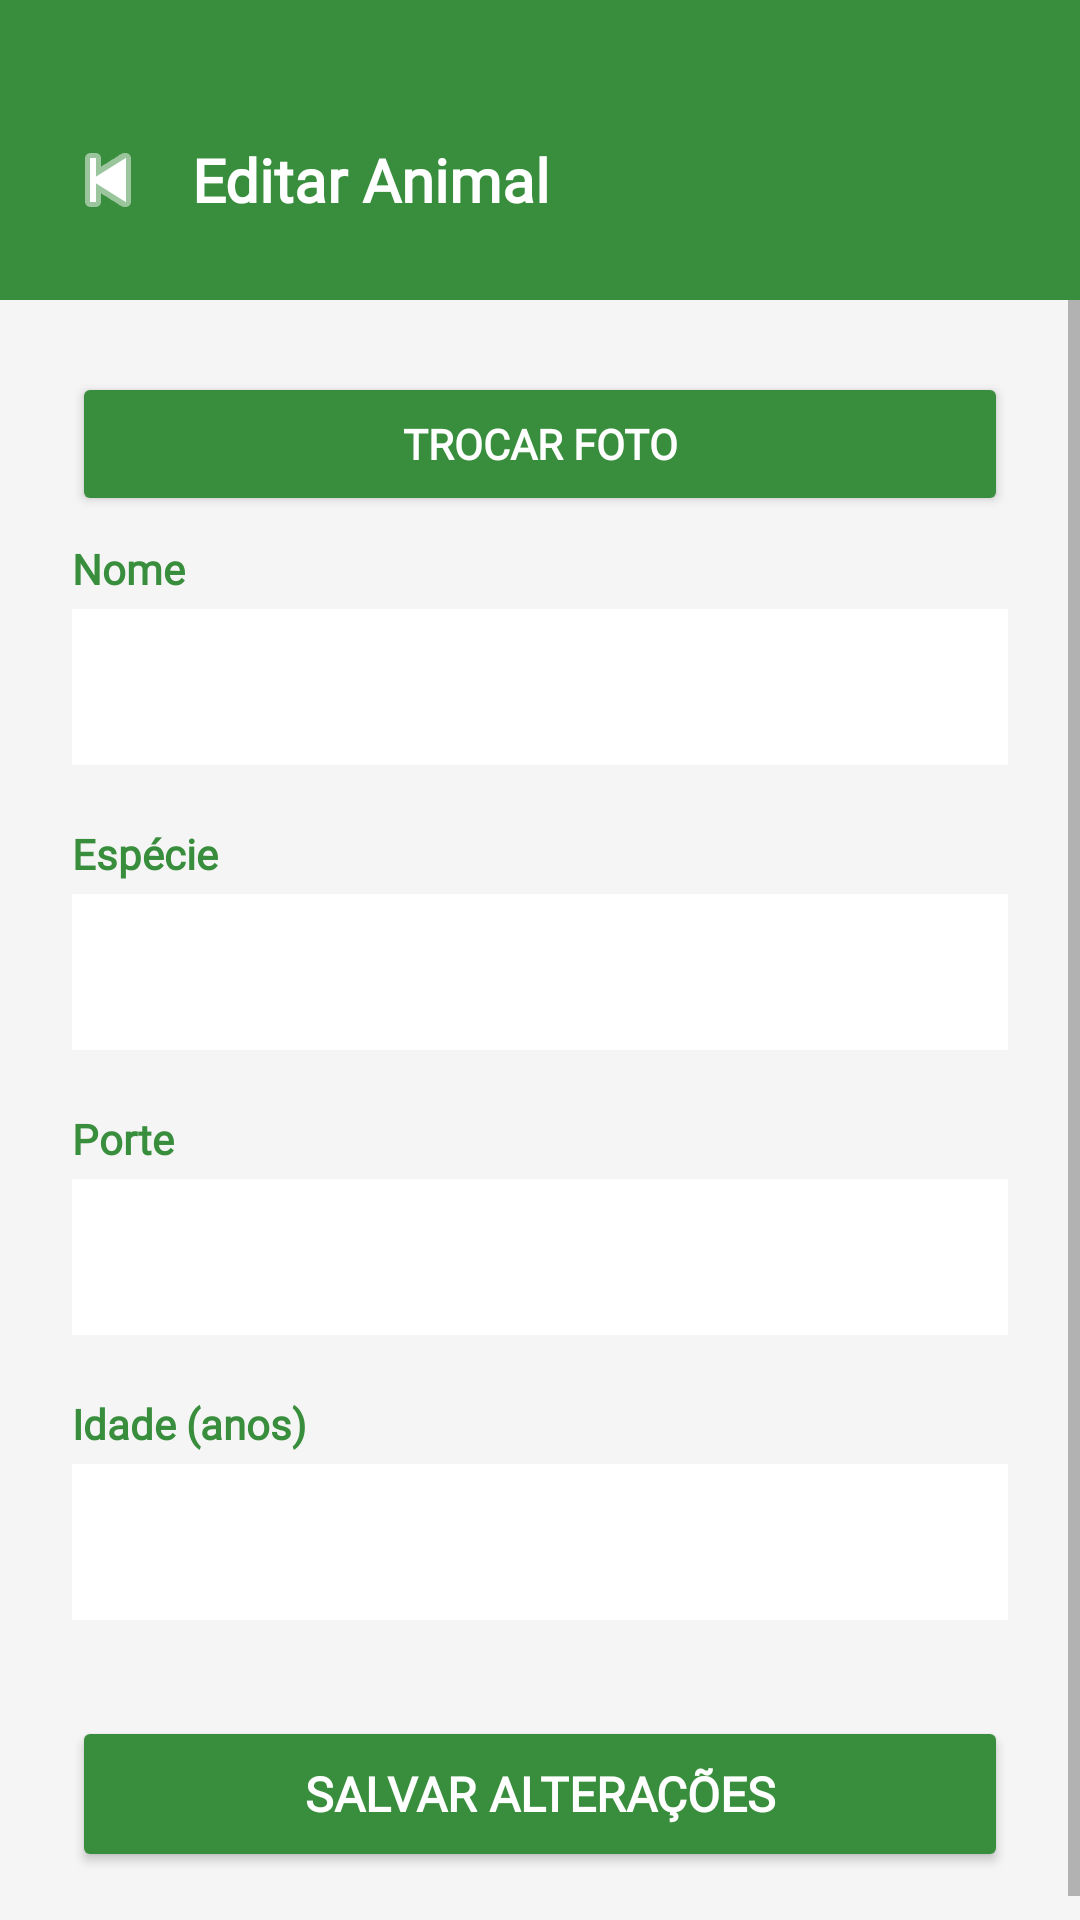

Named icons in this screenshot (1080 x 1920) and their bounding boxes, (left=x1, top=y1, right=x2, bottom=y2):
Voltar: (left=85, top=153, right=131, bottom=207)
